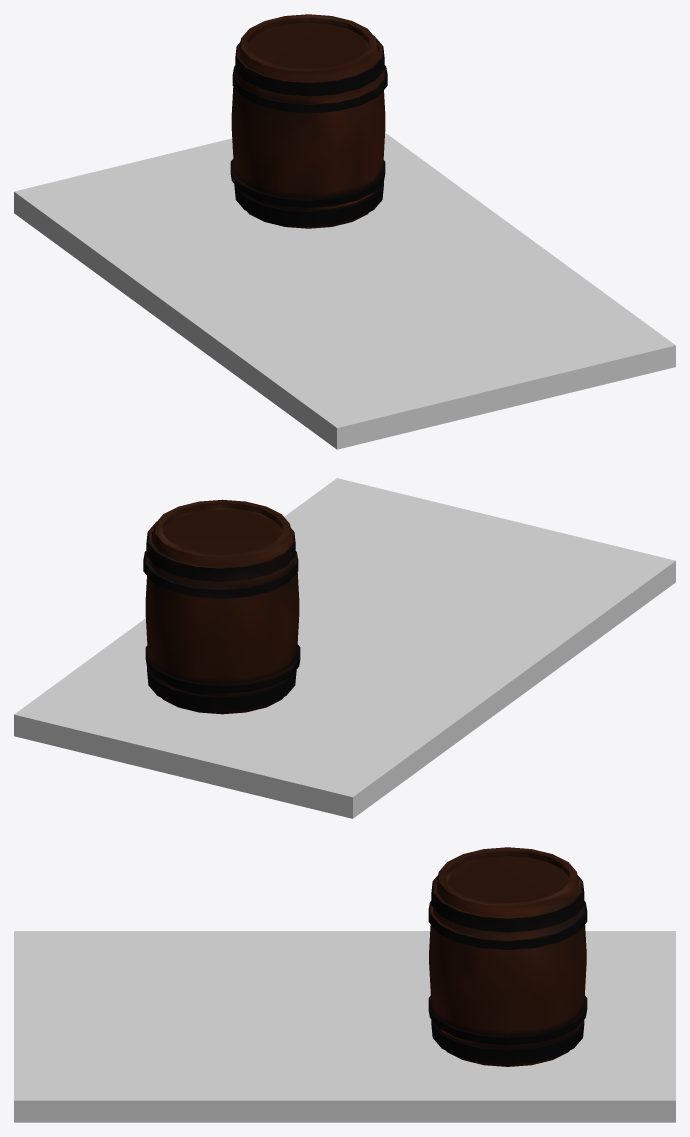
The model's file is tonneau.FBX.
3 views of the same model, one above another, from view 1: azimuth 30°, elevation 25°; view 2: azimuth 150°, elevation 25°; view 3: azimuth 270°, elevation 25° (orthographic). The views are drawn at different scales.
Visible parts, largest first — view 1: Box016, Object008; view 2: Box016, Object008; view 3: Box016, Object008.
Boxes of the visible parts, bbox=[...] form: Box016: bbox=[14, 132, 675, 449]; Object008: bbox=[230, 14, 387, 228]; Box016: bbox=[14, 478, 675, 818]; Object008: bbox=[143, 499, 300, 714]; Box016: bbox=[14, 931, 675, 1122]; Object008: bbox=[428, 847, 587, 1066].
Bounding box in the file's own units: 107 × 53.63 × 176.
